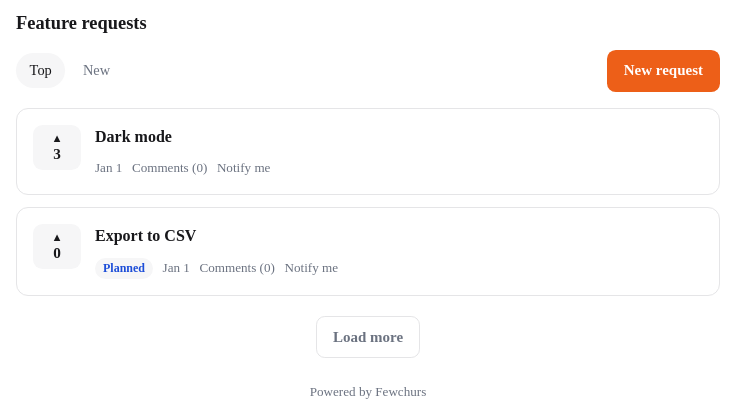
Test case: board › votes optimistically
The width and height of the screenshot is (737, 416).
Click the button named "Upvote Dark mode": (57, 147) [33,125,81,170]
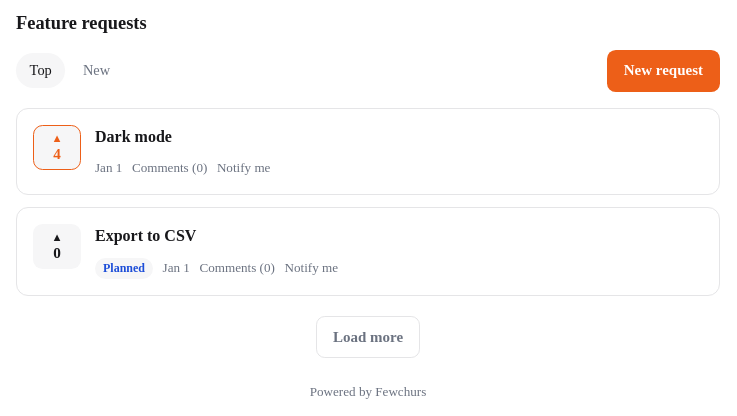
Now the text "4" is shown, box [53,146,61,163]
